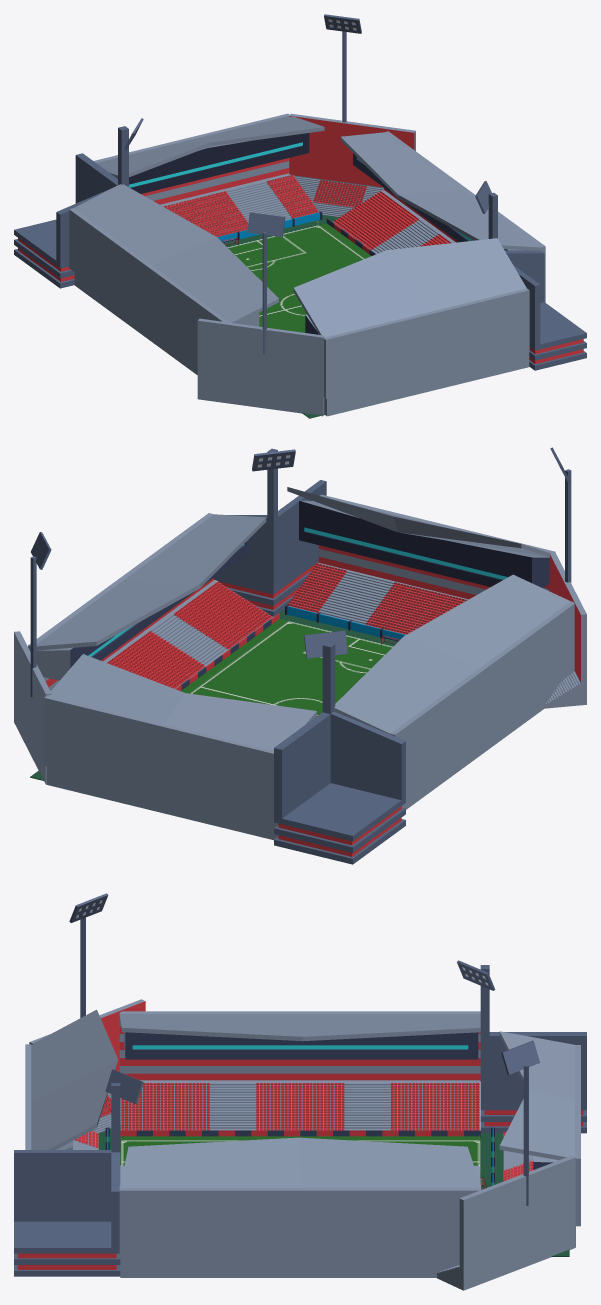
The model's file is Soccer Field With Field Texture Big.fbx.
3 renders of one model, top to bottom at view 1: azimuth 30°, elevation 25°; view 2: azimuth 150°, elevation 25°; view 3: azimuth 270°, elevation 25°, orthographic. The views are drawn at different scales.
Parts seen in each view (by area): view 1: High End, Cube.029, Corner Seats Red.001, Cube.030, Cube, Low End, Corner Seats, Cube.037, Cube.020, Cube.038, Cube.011, Cube.015 (+11 smaller); view 2: Cube.029, Low End, Cube.037, Cube.030, Cube, Cube.035, Cube.020, High End, Cube.015, Cube.011, Cube.008, Corner Seats (+13 smaller); view 3: Cube.030, Cube.029, Cube.020, Corner Seats, Cube.002, High End, Cube.039, Low End, Cube.005, Cube.037, Cube, Cube.001 (+10 smaller).
Boxes of the visible parts, bbox=[...] form: High End: bbox=[293, 238, 529, 398]; Cube.029: bbox=[69, 184, 278, 361]; Corner Seats Red.001: bbox=[197, 318, 324, 416]; Cube.030: bbox=[340, 131, 545, 302]; Cube: bbox=[223, 215, 371, 418]; Low End: bbox=[94, 113, 324, 204]; Corner Seats: bbox=[289, 113, 415, 216]; Cube.037: bbox=[14, 126, 128, 288]; Cube.020: bbox=[488, 192, 586, 370]; Cube.038: bbox=[129, 133, 309, 193]; Cube.011: bbox=[324, 349, 529, 416]; Cube.015: bbox=[160, 173, 318, 236]; Cube.029: bbox=[334, 574, 574, 794]; Low End: bbox=[44, 654, 316, 821]; Cube.037: bbox=[274, 642, 405, 864]; Cube.030: bbox=[28, 513, 266, 690]; Cube: bbox=[30, 609, 397, 780]; Cube.035: bbox=[299, 500, 549, 587]; Cube.020: bbox=[214, 448, 326, 616]; High End: bbox=[287, 487, 555, 599]; Cube.015: bbox=[46, 766, 278, 840]; Cube.011: bbox=[290, 562, 468, 634]; Cube.008: bbox=[174, 581, 272, 649]; Corner Seats: bbox=[14, 631, 51, 784]; Cube.030: bbox=[119, 1137, 481, 1258]; Cube.029: bbox=[119, 1011, 480, 1081]; Cube.020: bbox=[14, 1083, 120, 1276]; Corner Seats: bbox=[437, 1155, 575, 1290]; Cube.002: bbox=[120, 1080, 480, 1130]; High End: bbox=[25, 1009, 118, 1149]; Cube.039: bbox=[124, 1032, 478, 1059]; Low End: bbox=[499, 1031, 580, 1226]; Cube.005: bbox=[120, 1258, 459, 1277]; Cube.037: bbox=[480, 965, 586, 1133]; Cube: bbox=[98, 1125, 569, 1256]; Cube.001: bbox=[256, 1083, 344, 1130].
Bounding box in the file's own units: 15871 × 7994 × 19113.
Materials: 2 (2 with a texture image).
